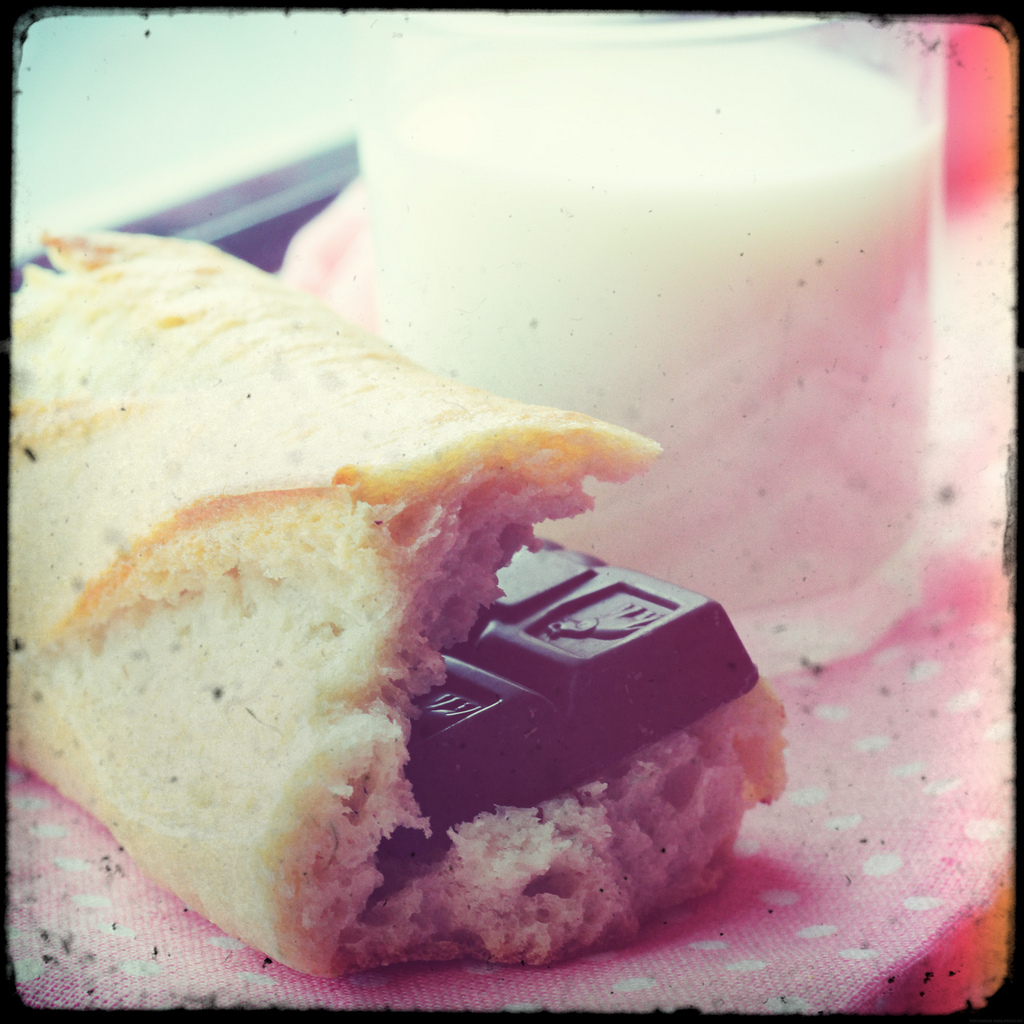glass of milk: (371, 16, 959, 461)
slice of bread: (10, 238, 632, 968)
